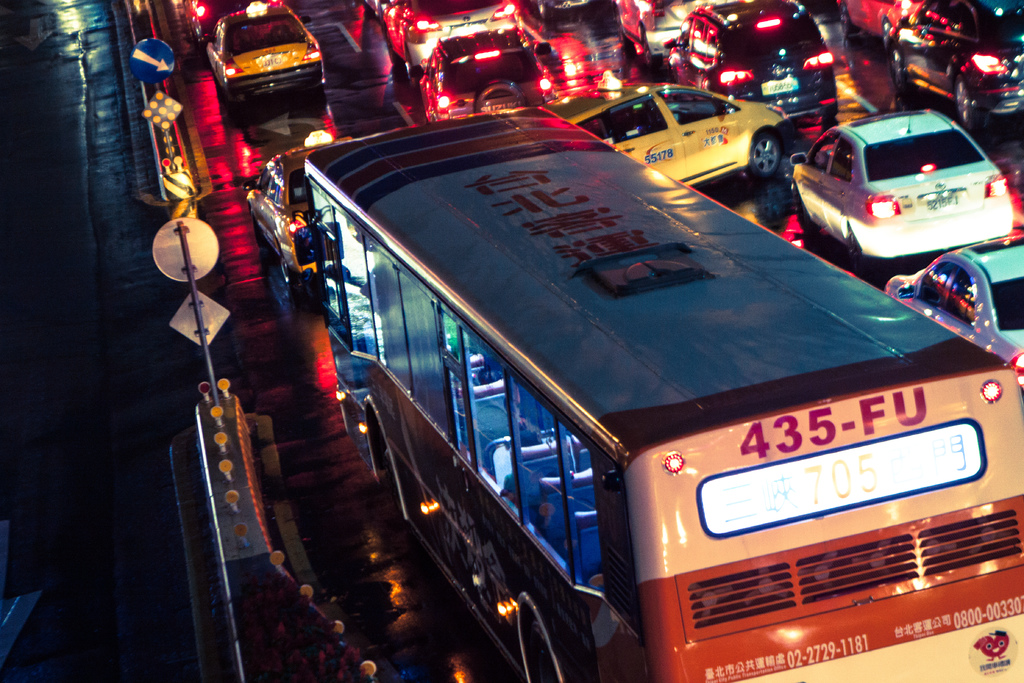Car: (788, 105, 1007, 274), (558, 62, 796, 189), (658, 1, 837, 124), (882, 241, 1023, 386), (877, 1, 1022, 131), (193, 0, 328, 99), (376, 0, 520, 73)
